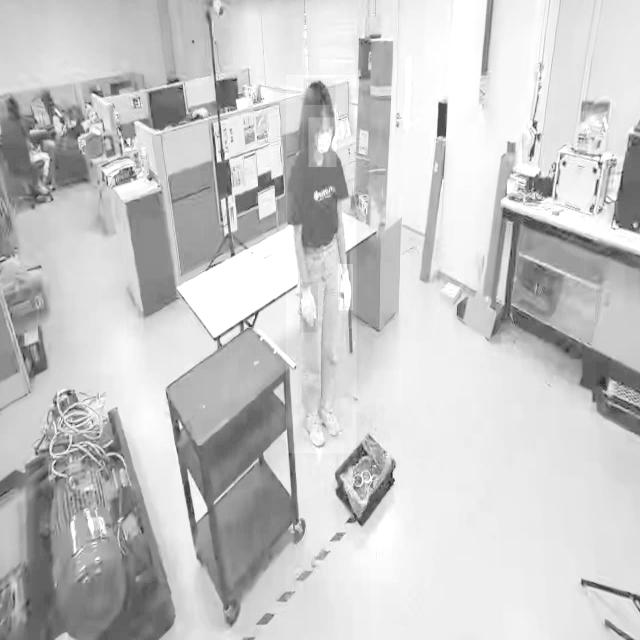face_mask: (308, 117, 336, 167)
hand_glove: (300, 282, 318, 333), (337, 264, 353, 311)
head_nohelmet: (303, 78, 335, 106)
person: (286, 75, 356, 454)
shoes: (302, 402, 328, 451), (316, 400, 342, 441)
